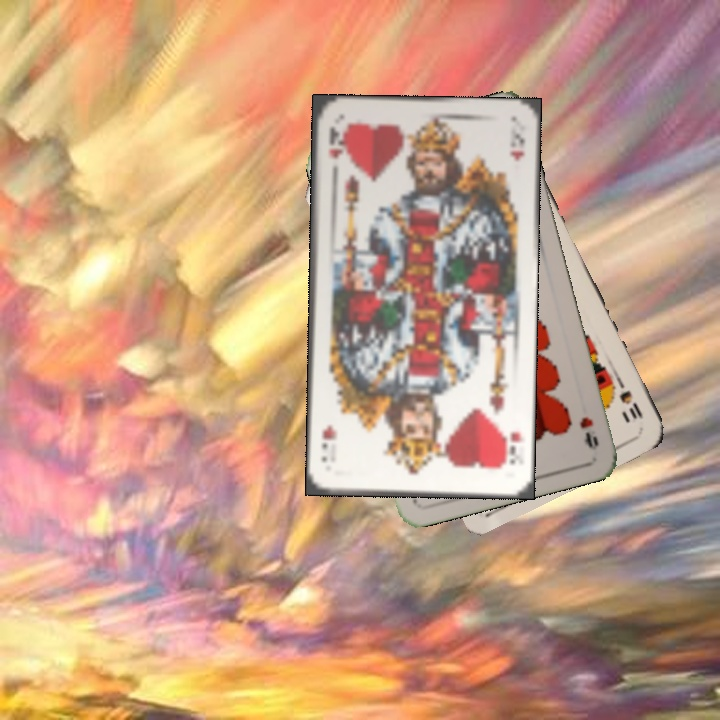H9: (575, 413, 601, 453)
HK: (499, 426, 525, 472), (325, 122, 346, 161)
S10: (613, 375, 646, 422)
